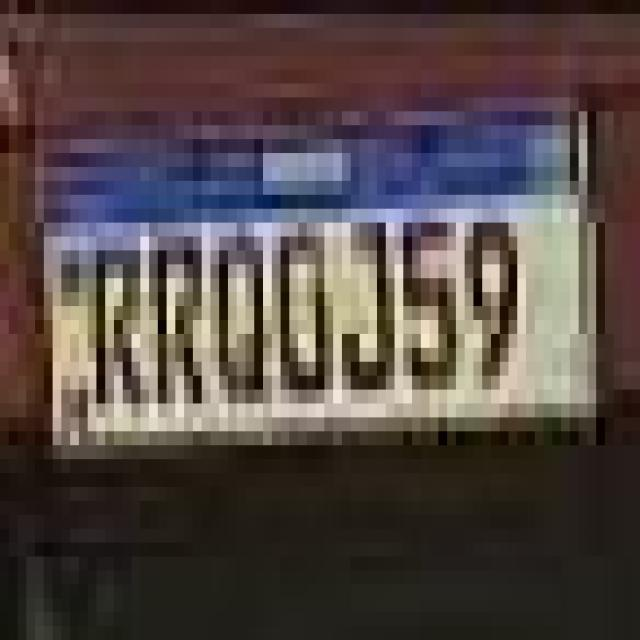0: (276, 227, 332, 401)
5: (402, 215, 459, 397)
9: (467, 204, 529, 391)
J: (339, 218, 397, 396)
Q: (213, 229, 270, 409)
R: (149, 234, 207, 413), (92, 239, 146, 412)
